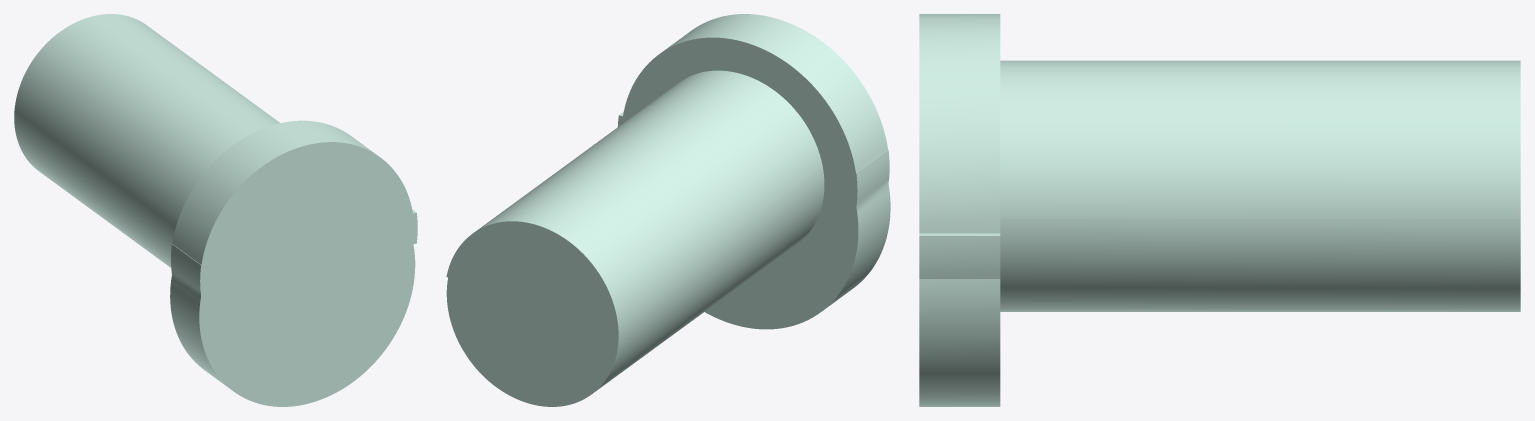
3 renders of one model, left to right at view 1: azimuth 30°, elevation 25°; view 2: azimuth 150°, elevation 25°; view 3: azimuth 270°, elevation 25°, orthographic. The views are drawn at different scales.
Visible parts, largest first — view 1: Renderer Node; view 2: Renderer Node; view 3: Renderer Node.
Part boxes in pixels (x1,y1,x2,y2): Renderer Node: [14, 14, 417, 406]; Renderer Node: [446, 14, 890, 406]; Renderer Node: [919, 14, 1520, 406].
Bounding box in the file's own units: 0.5065 × 0.5734 × 0.8672.
